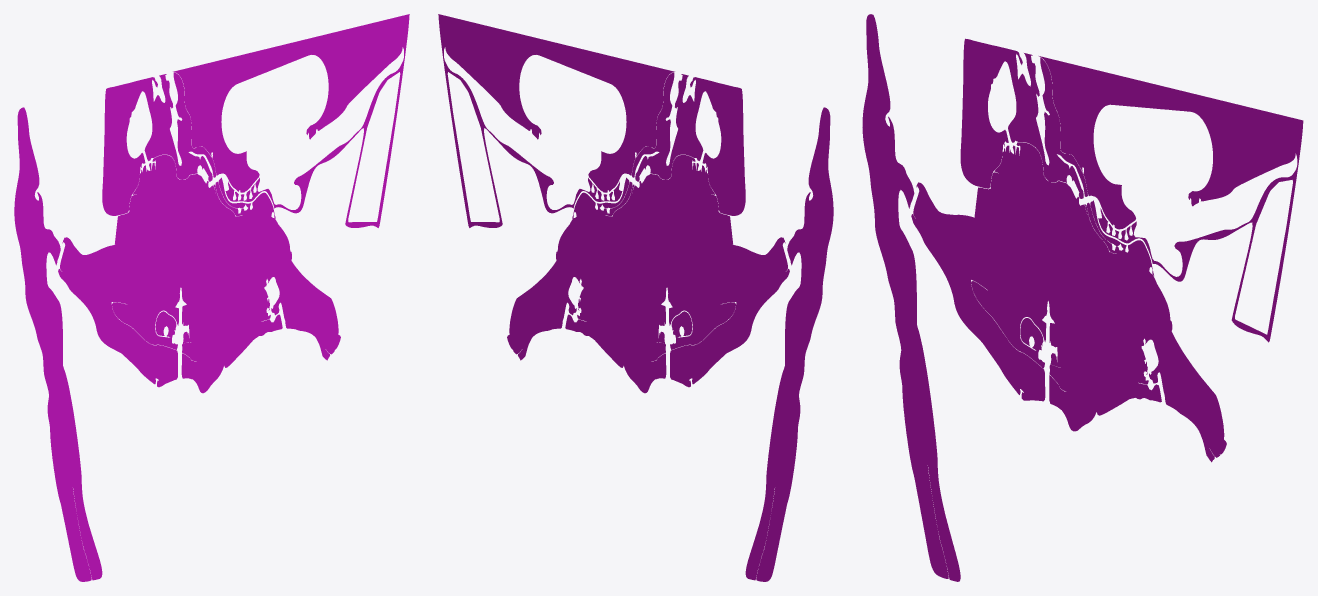
The picture shows the model from 3 angles, left to right: view 1: azimuth 30°, elevation 25°; view 2: azimuth 150°, elevation 25°; view 3: azimuth 330°, elevation 25°; orthographic projection. The views are drawn at different scales.
Parts seen in each view (by area): view 1: Us_Hatyn_shema; view 2: Us_Hatyn_shema; view 3: Us_Hatyn_shema.
Boxes of the visible parts, x1=… form: Us_Hatyn_shema: x1=14, y1=14, x2=409, y2=581; Us_Hatyn_shema: x1=438, y1=14, x2=833, y2=581; Us_Hatyn_shema: x1=862, y1=14, x2=1303, y2=581.
Bounding box in the file's own units: 0.8361 × 0.9906 × 0.
